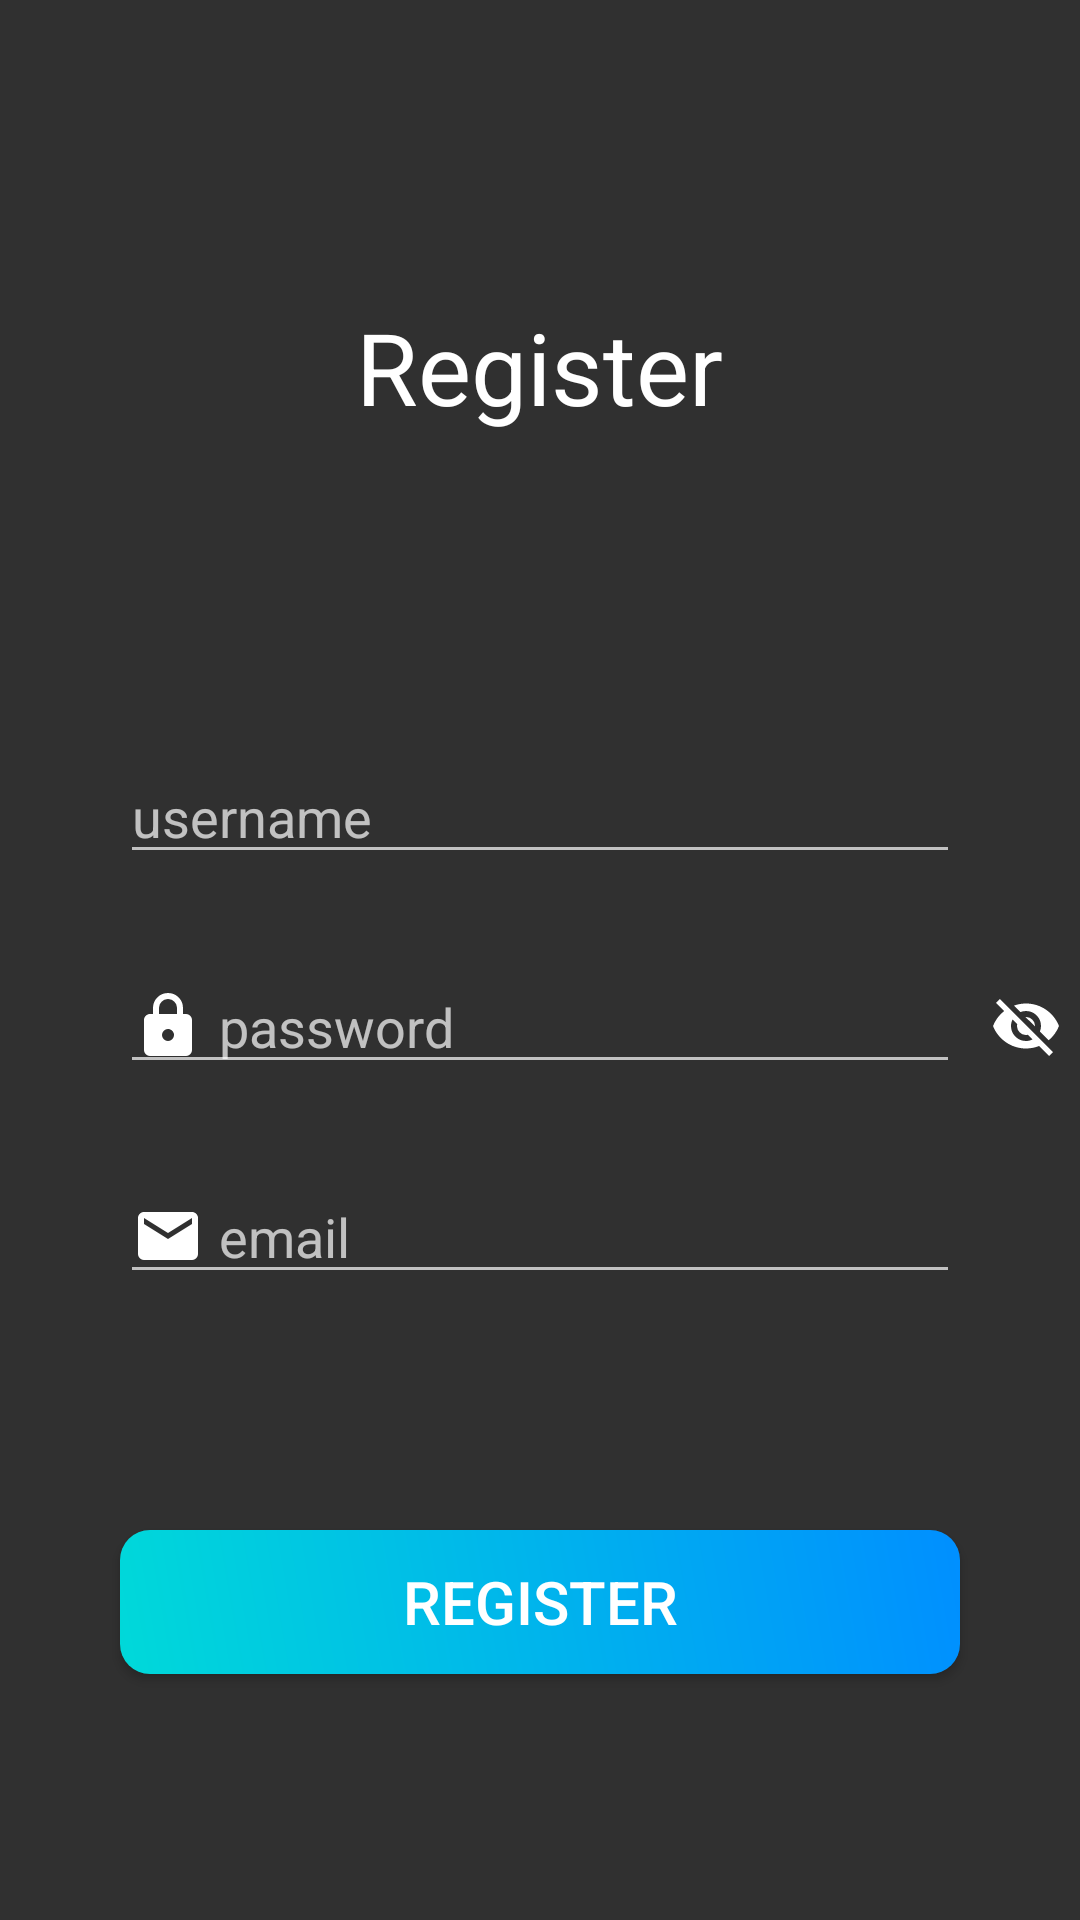

Point at icon controls on the screen. Image size 1080w x 1920h, points as point (x, y).
eye off: point (1026, 1027)
